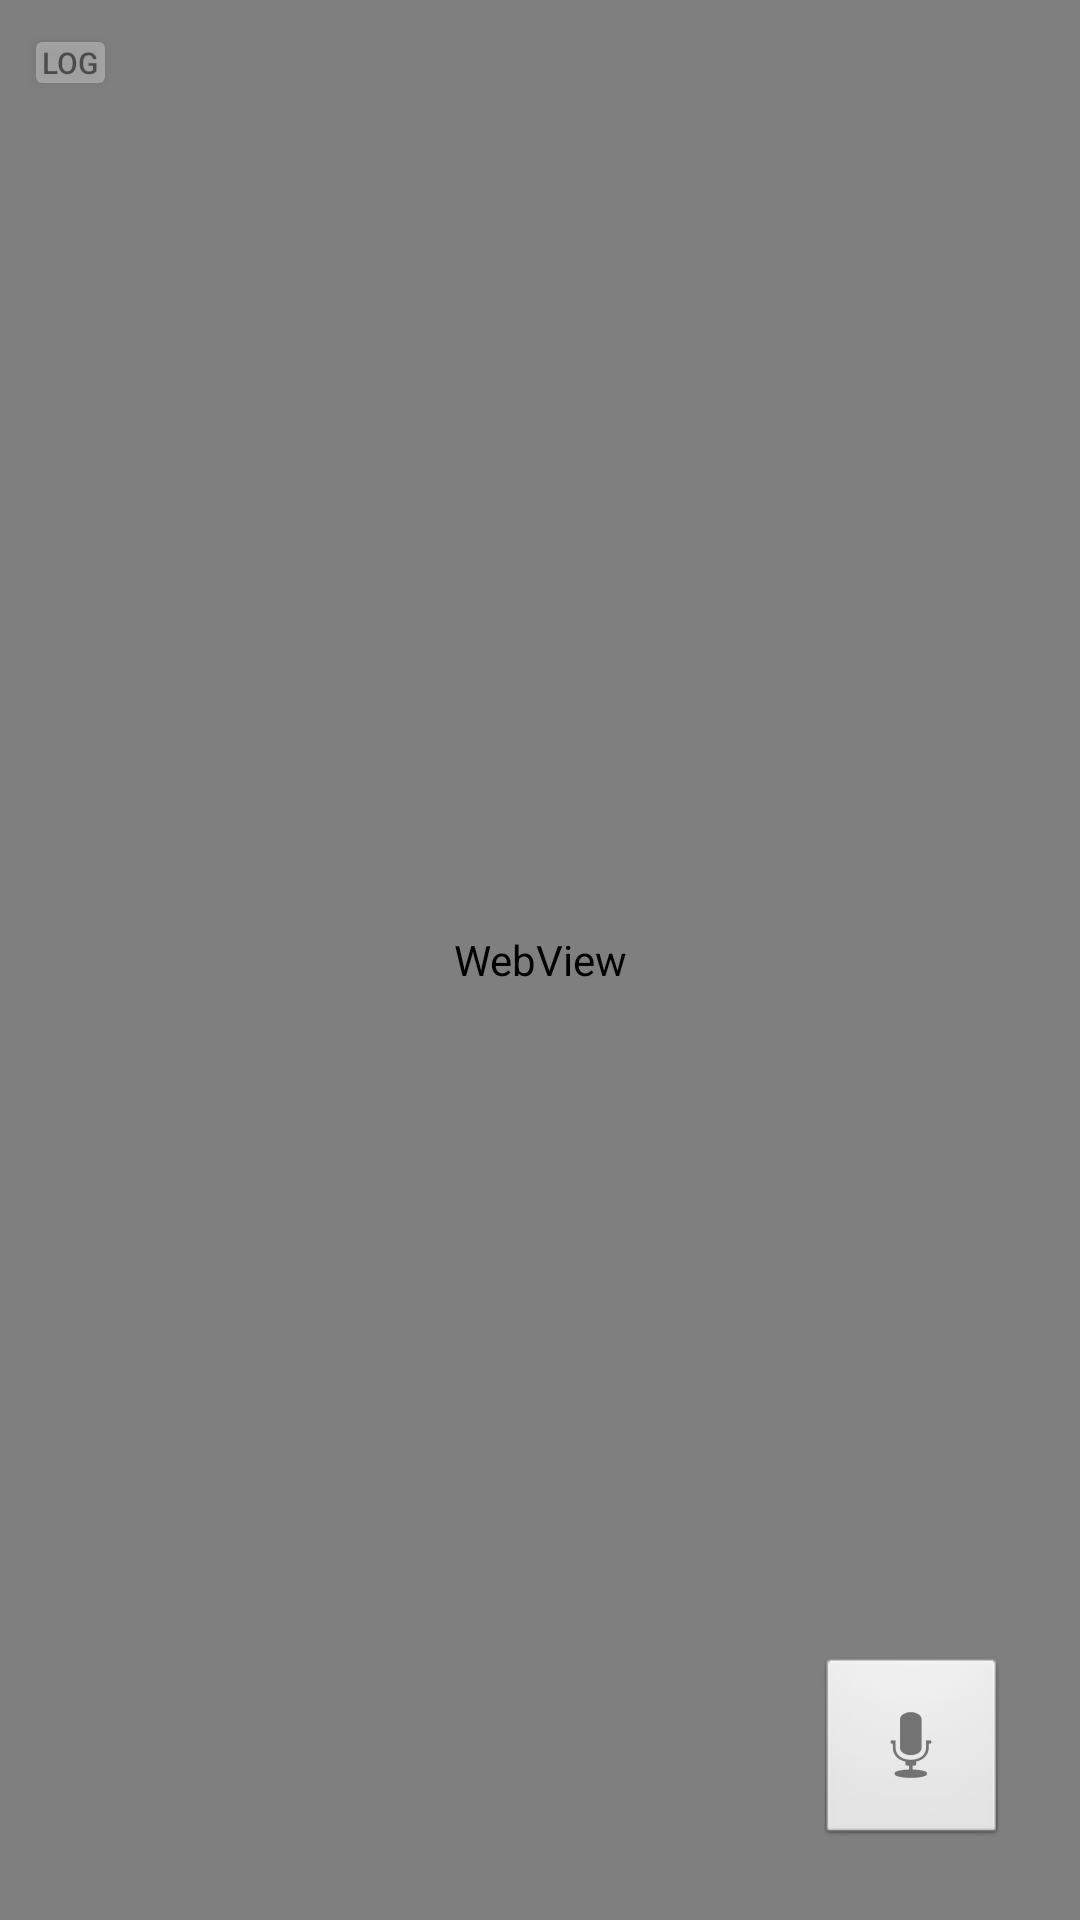

Named icons in this screenshot (1080×1920) and their centers, (x,y):
speak now: (911,1746)
